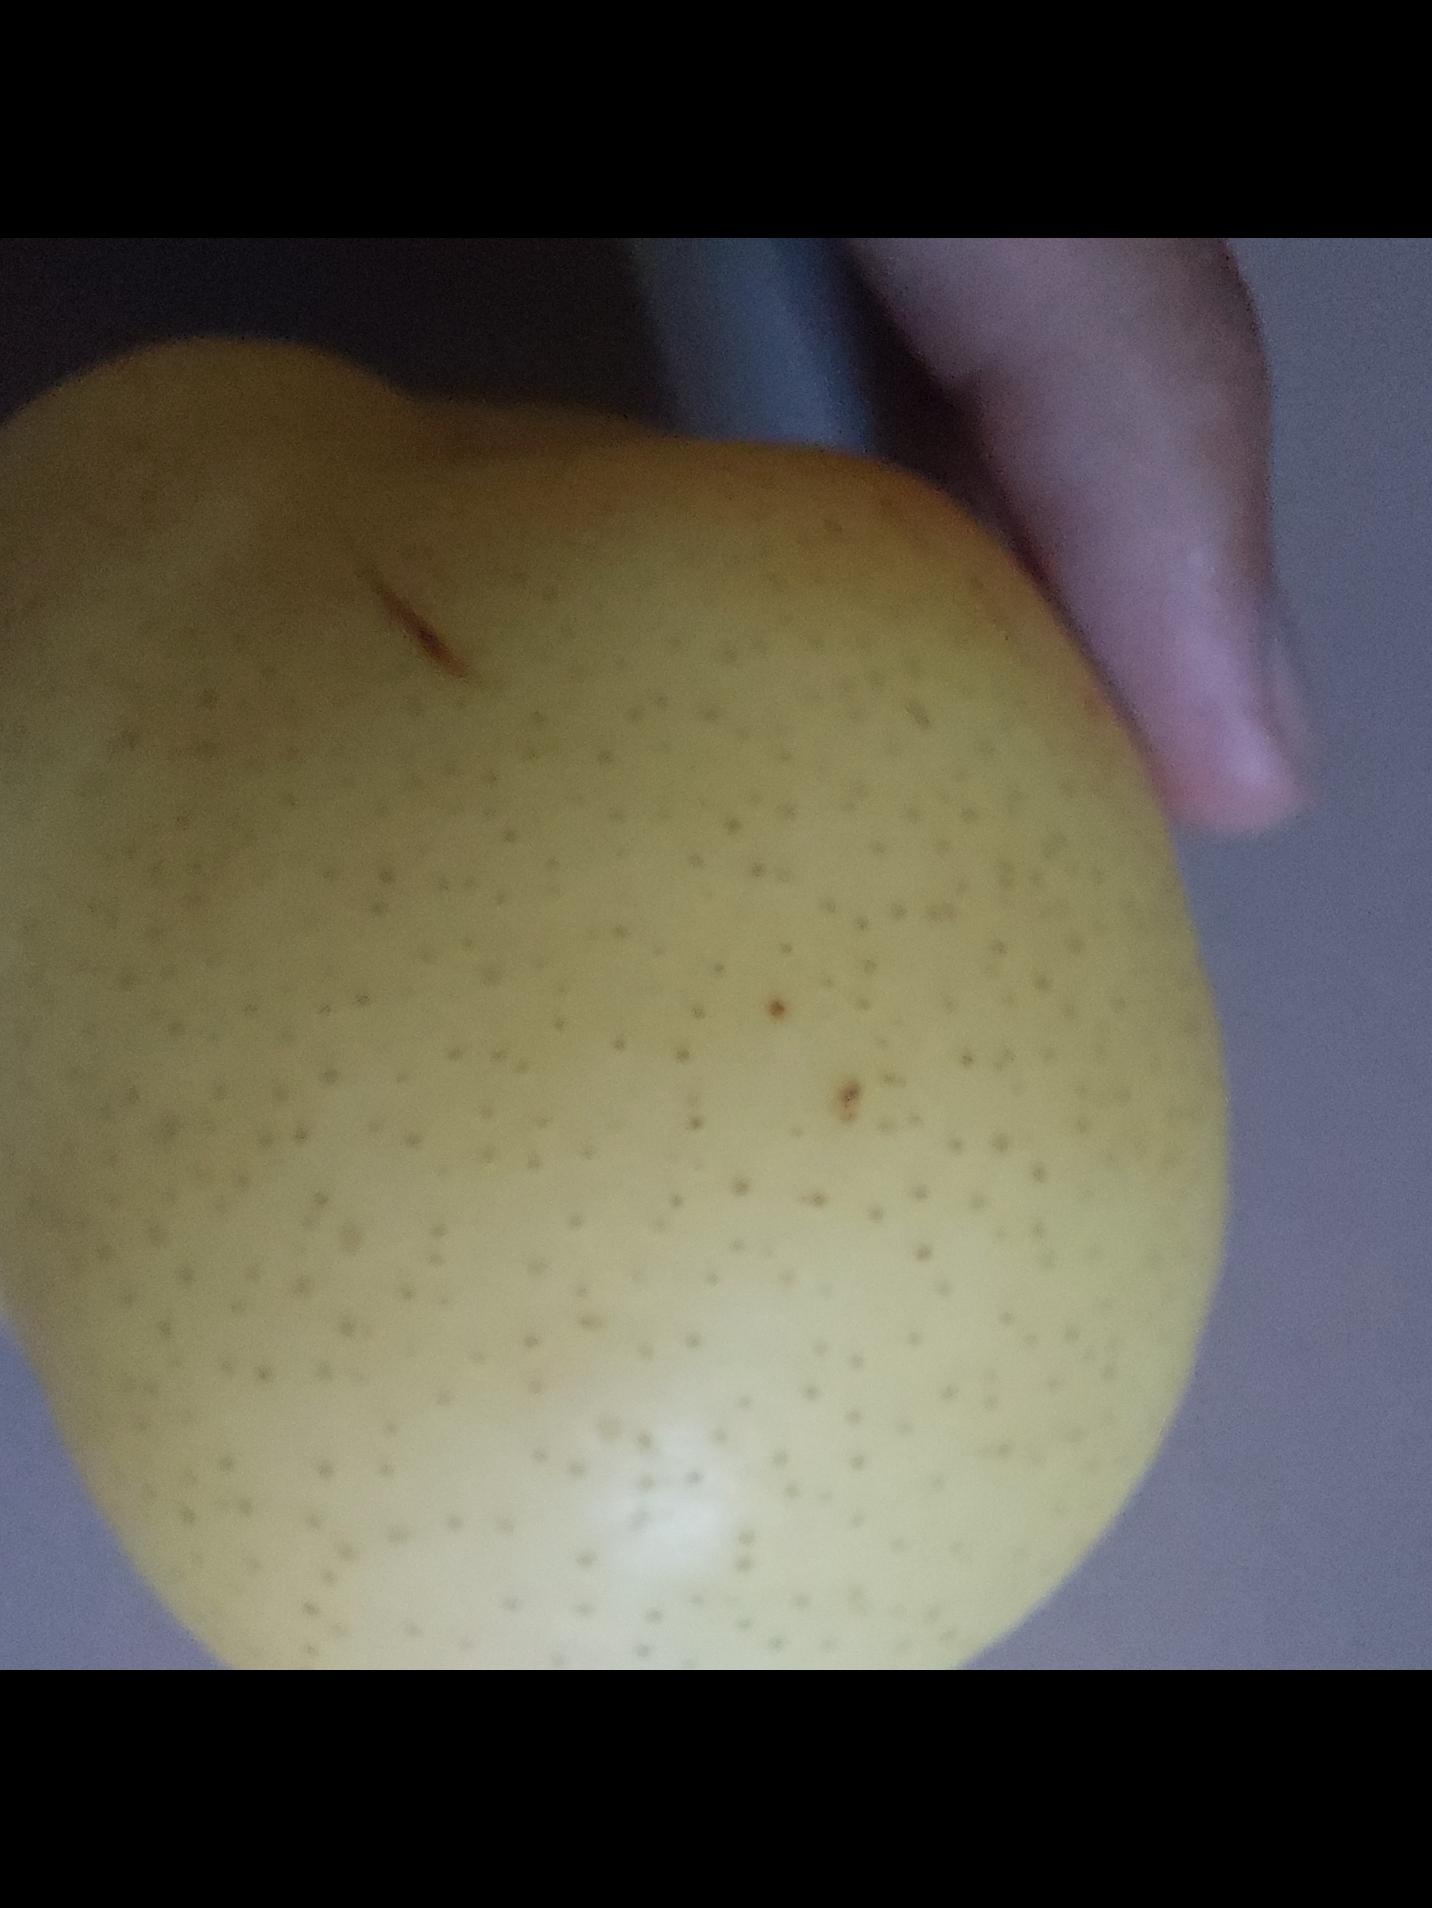Good Pear: (0, 350, 1233, 1670)
